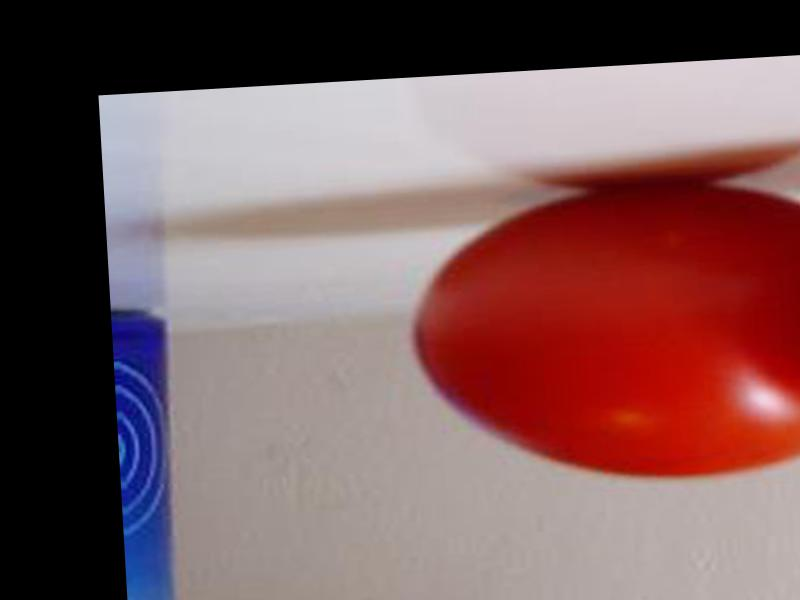Tomato: (408, 170, 800, 490)
